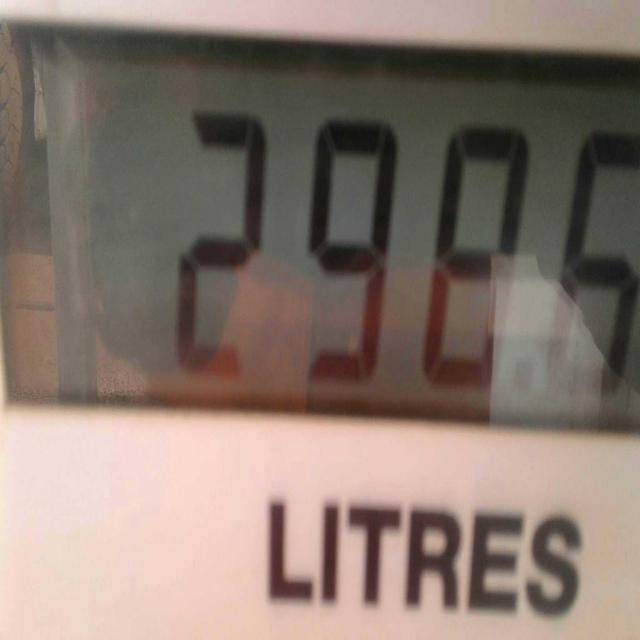.: (512, 358, 537, 387)
2: (169, 109, 273, 382)
6: (551, 134, 640, 407)
8: (423, 128, 529, 388)
9: (305, 116, 395, 381)
screen: (0, 22, 640, 430)
